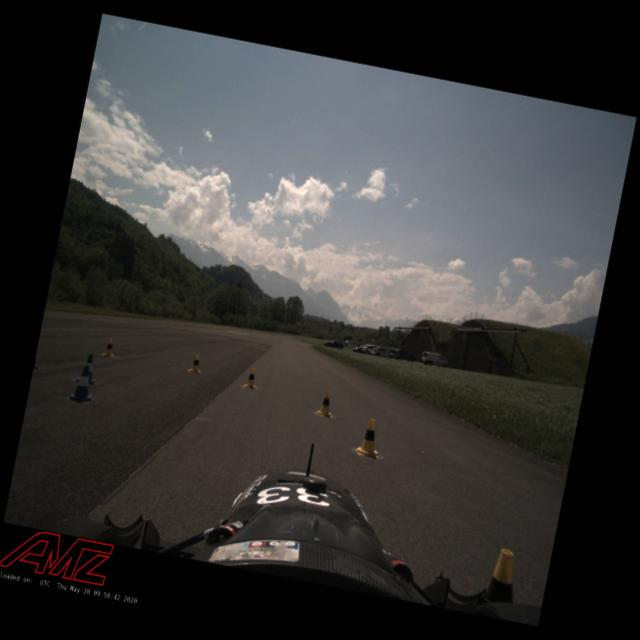blue_cone: (65, 362, 100, 406), (75, 352, 101, 386)
yellow_cone: (474, 545, 530, 622), (354, 416, 386, 460), (315, 389, 336, 418), (242, 367, 260, 390), (188, 352, 205, 374), (101, 337, 118, 359)
